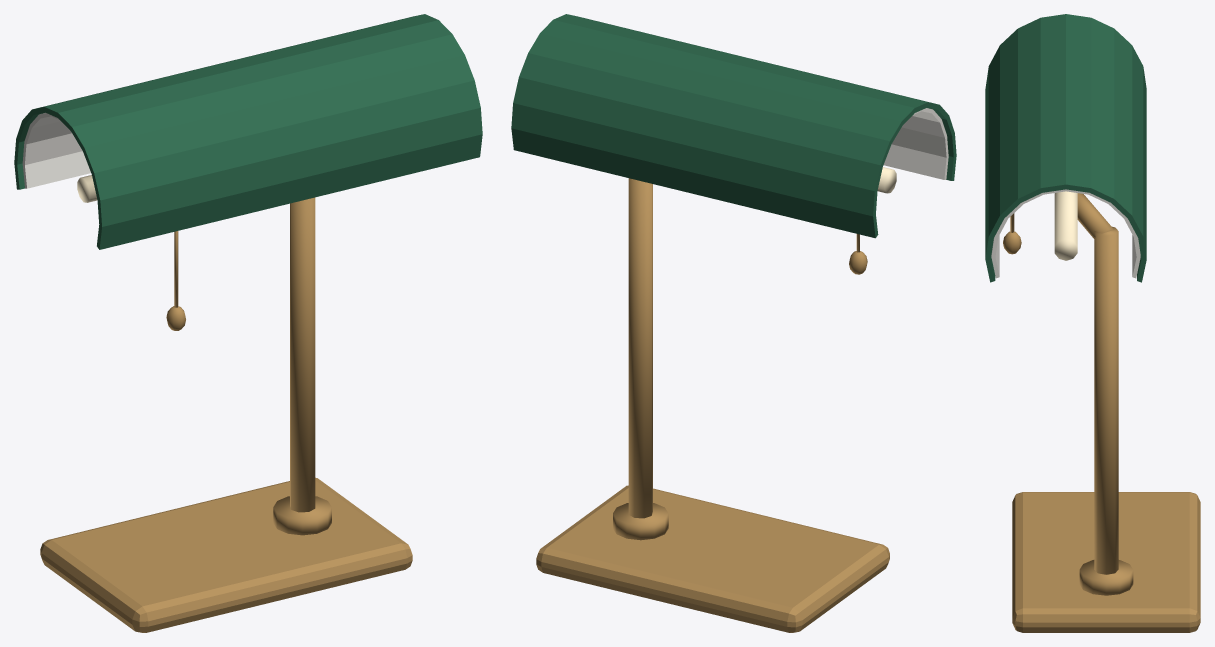
File: lampBanker.glb
3 renders of one model, left to right at view 1: azimuth 30°, elevation 25°; view 2: azimuth 150°, elevation 25°; view 3: azimuth 270°, elevation 25°, orthographic. The views are drawn at different scales.
Parts seen in each view (by area): view 1: lampBanker; view 2: lampBanker; view 3: lampBanker.
Part boxes in pixels (x1=…): lampBanker: x1=14, y1=14, x2=482, y2=632; lampBanker: x1=511, y1=14, x2=956, y2=632; lampBanker: x1=985, y1=14, x2=1200, y2=632.
Bounding box in the file's own units: 0.3 × 0.39 × 0.16.
